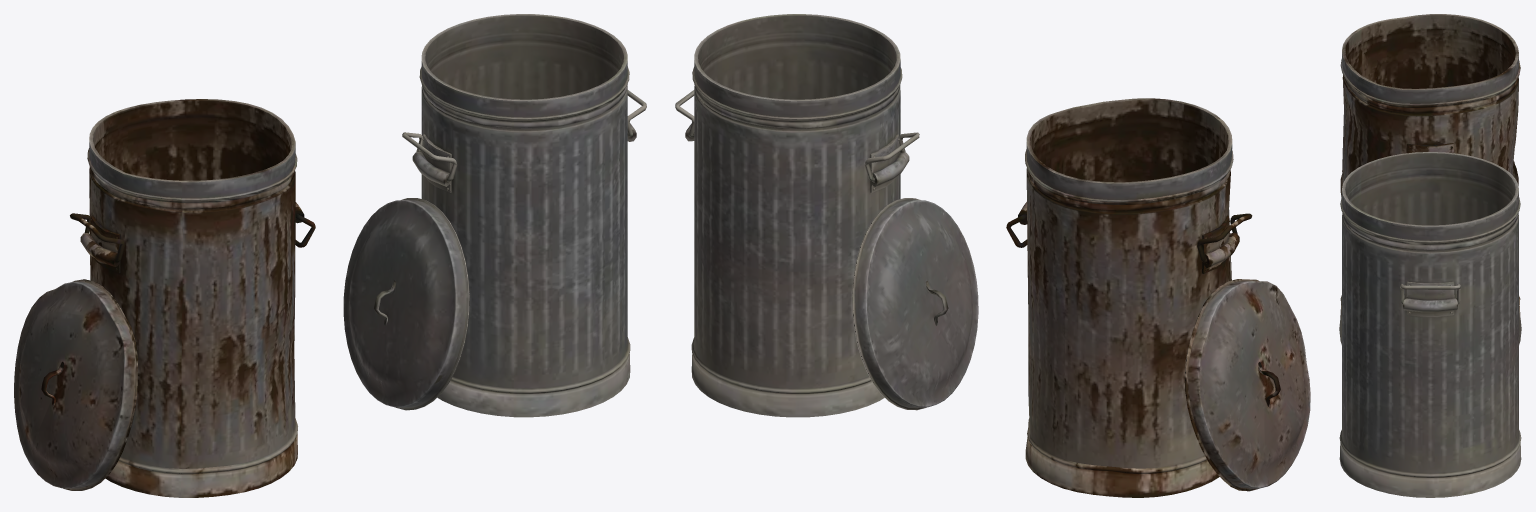
Rendered from metal_trash_can.glb.
The picture shows the model from 3 angles, left to right: view 1: azimuth 30°, elevation 25°; view 2: azimuth 150°, elevation 25°; view 3: azimuth 270°, elevation 25°; orthographic projection. The views are drawn at different scales.
Parts seen in each view (by area): view 1: metal_trash_can_handle_left, metal_trash_can_rust; view 2: metal_trash_can_handle_left, metal_trash_can_rust; view 3: metal_trash_can_handle_left, metal_trash_can_rust.
Part boxes in pixels (box(x1,y1,x2,y2)): metal_trash_can_handle_left: box(343, 14, 646, 417); metal_trash_can_rust: box(14, 99, 315, 497); metal_trash_can_handle_left: box(675, 14, 978, 417); metal_trash_can_rust: box(1006, 98, 1310, 497); metal_trash_can_handle_left: box(1339, 152, 1521, 497); metal_trash_can_rust: box(1340, 14, 1520, 317).
Size of the model in its own units: 1.78 by 0.9062 by 0.5543.
2 materials, 2 textured.
